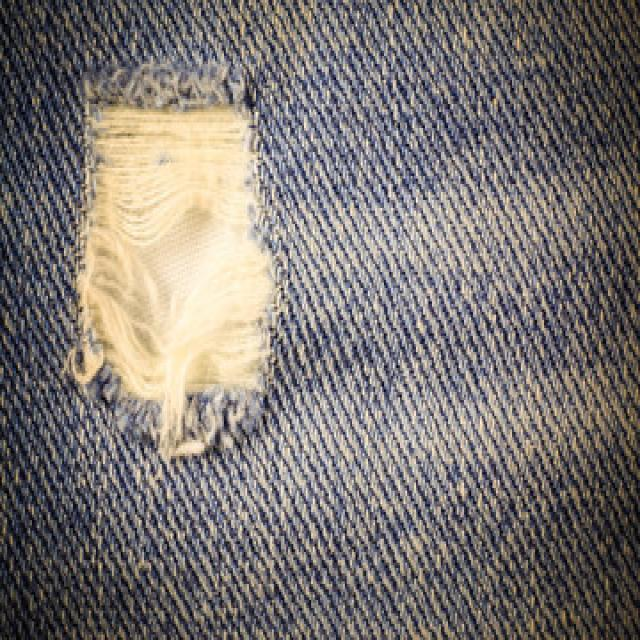Hole: (70, 64, 273, 459)
